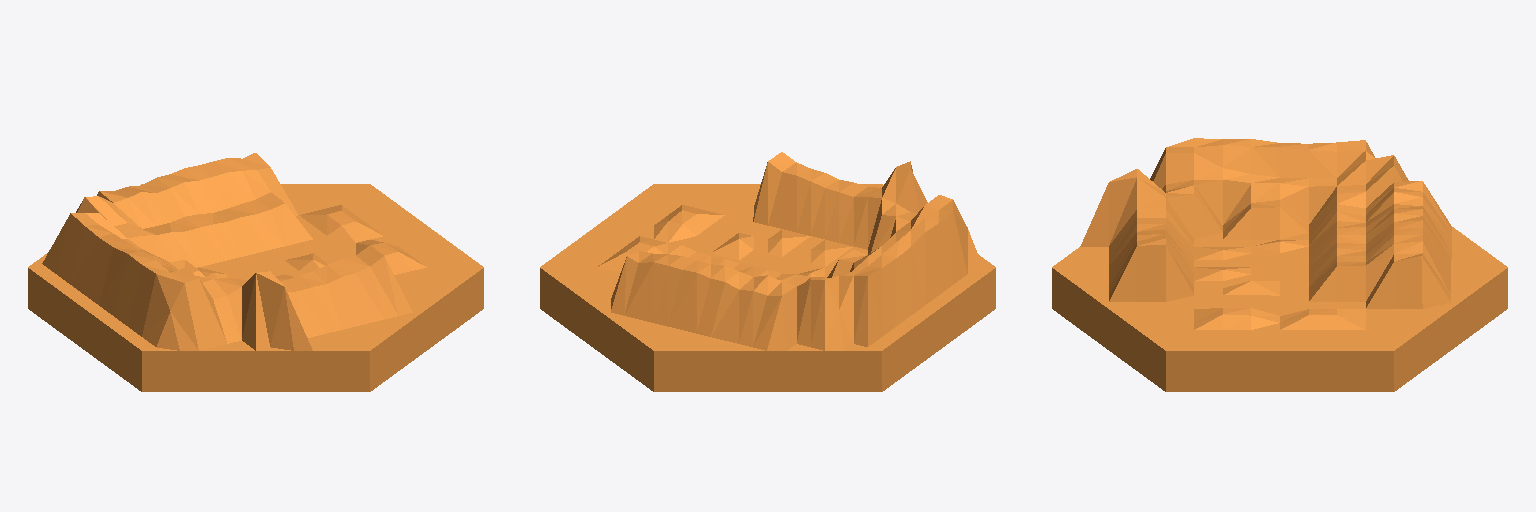
File: quarry.obj
3 views of the same model, side by side, from view 1: azimuth 30°, elevation 25°; view 2: azimuth 150°, elevation 25°; view 3: azimuth 270°, elevation 25° (orthographic).
Visible parts, largest first — view 1: Cylinder; view 2: Cylinder; view 3: Cylinder.
Boxes of the visible parts, <box> form: Cylinder: <box>28,153,483,391</box>; Cylinder: <box>540,152,995,391</box>; Cylinder: <box>1052,138,1507,391</box>.
Size of the model in its own units: 17.32 by 5.1 by 20.